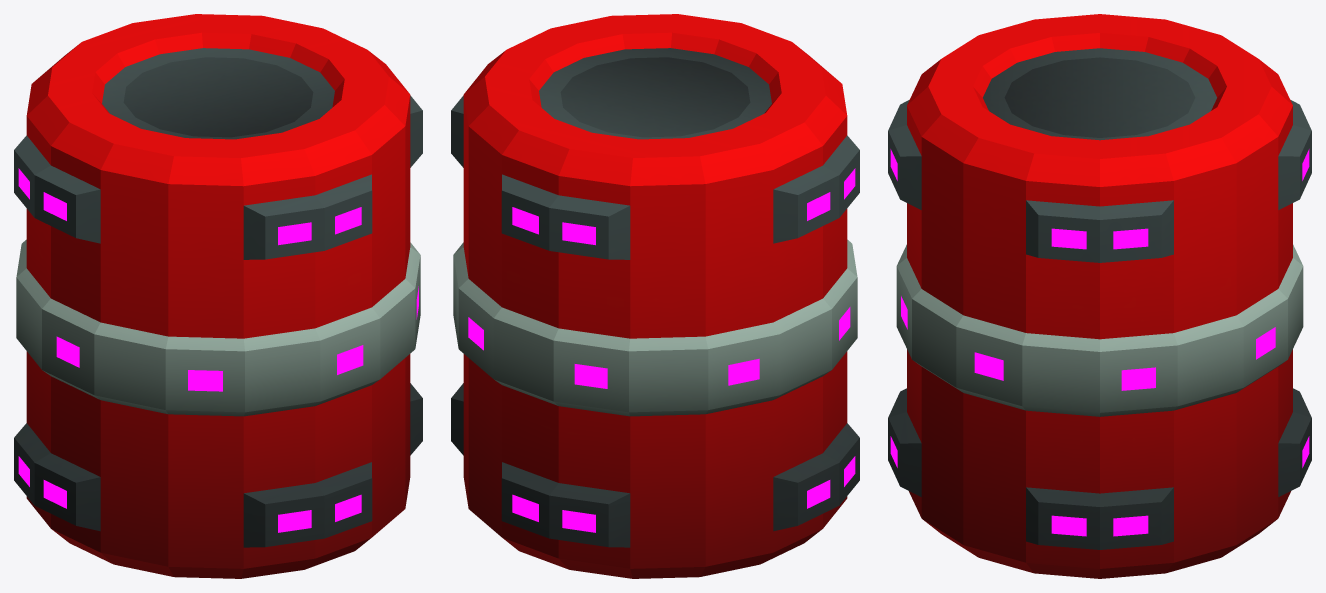
File: barrel_004.fbx
The picture shows the model from 3 angles, left to right: view 1: azimuth 30°, elevation 25°; view 2: azimuth 150°, elevation 25°; view 3: azimuth 270°, elevation 25°; orthographic projection.
Visible parts, largest first — view 1: barrel.004; view 2: barrel.004; view 3: barrel.004.
Boxes of the visible parts, x1,y1,x2,y2 form: barrel.004: (14, 14, 422, 578); barrel.004: (451, 14, 859, 578); barrel.004: (888, 14, 1311, 578).
Bounding box in the file's own units: 110 × 120 × 110.
